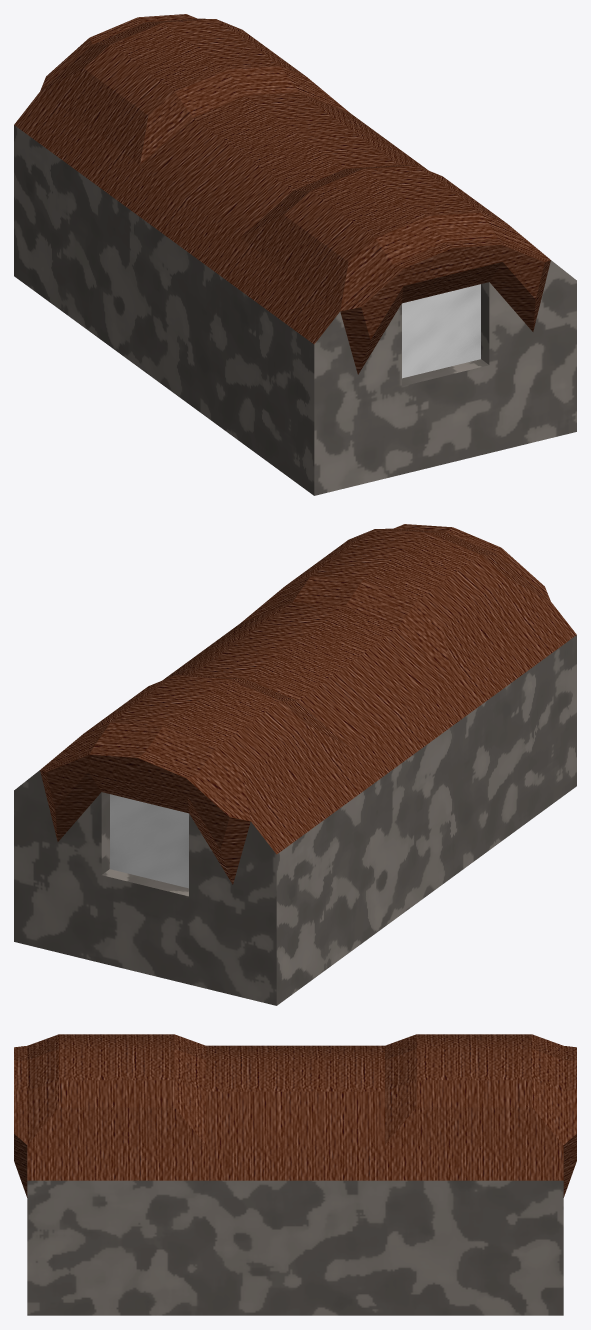
The model's file is Large_Port_House_1_Asset.fbx.
3 renders of one model, top to bottom at view 1: azimuth 30°, elevation 25°; view 2: azimuth 150°, elevation 25°; view 3: azimuth 270°, elevation 25°, orthographic. The views are drawn at different scales.
Visible parts, largest first — view 1: Box001; view 2: Box001; view 3: Box001.
Boxes of the visible parts, bbox=[...] form: Box001: bbox=[14, 14, 576, 495]; Box001: bbox=[14, 524, 576, 1005]; Box001: bbox=[14, 1034, 576, 1315].
Size of the model in its own units: 179 by 372 by 153.
Materials: 1 (1 with a texture image).
